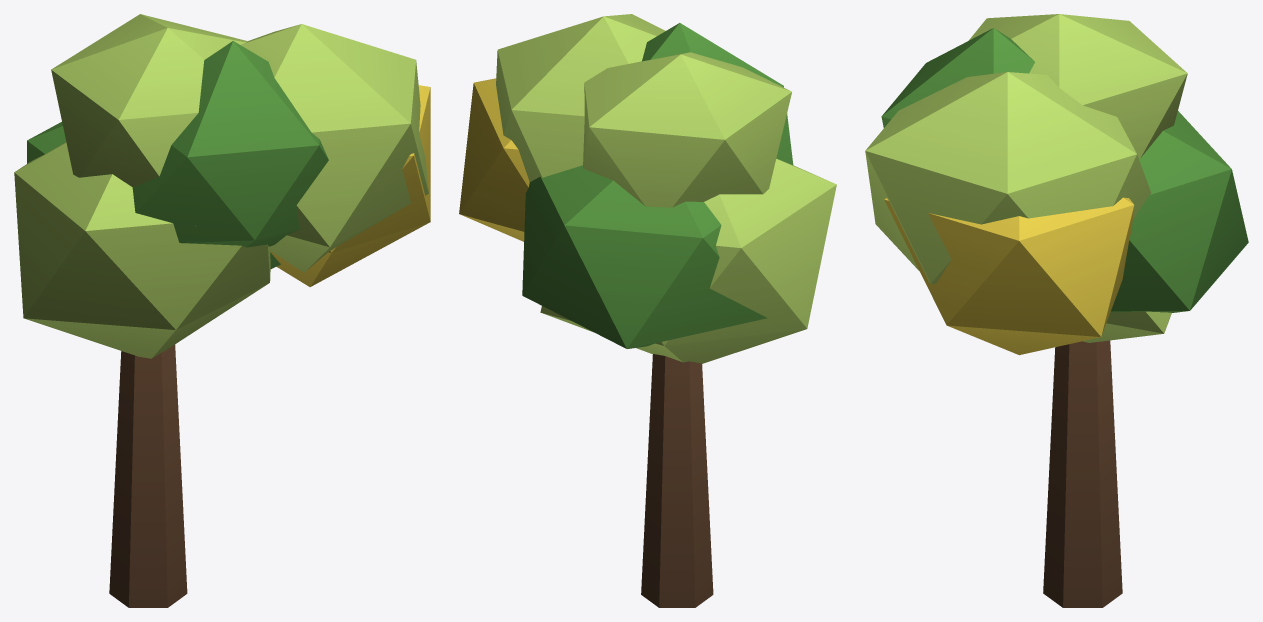
Rendered from tree_E.glb.
The picture shows the model from 3 angles, left to right: view 1: azimuth 30°, elevation 25°; view 2: azimuth 150°, elevation 25°; view 3: azimuth 270°, elevation 25°; orthographic projection. The views are drawn at different scales.
Parts seen in each view (by area): view 1: tree_E; view 2: tree_E; view 3: tree_E.
Boxes of the visible parts, x1,y1,x2,y2 form: tree_E: (14,14,430,607); tree_E: (459,14,836,607); tree_E: (865,14,1248,607).
Bounding box in the file's own units: 1.13 × 1.63 × 0.9642.
Materials: 1 (1 with a texture image).
